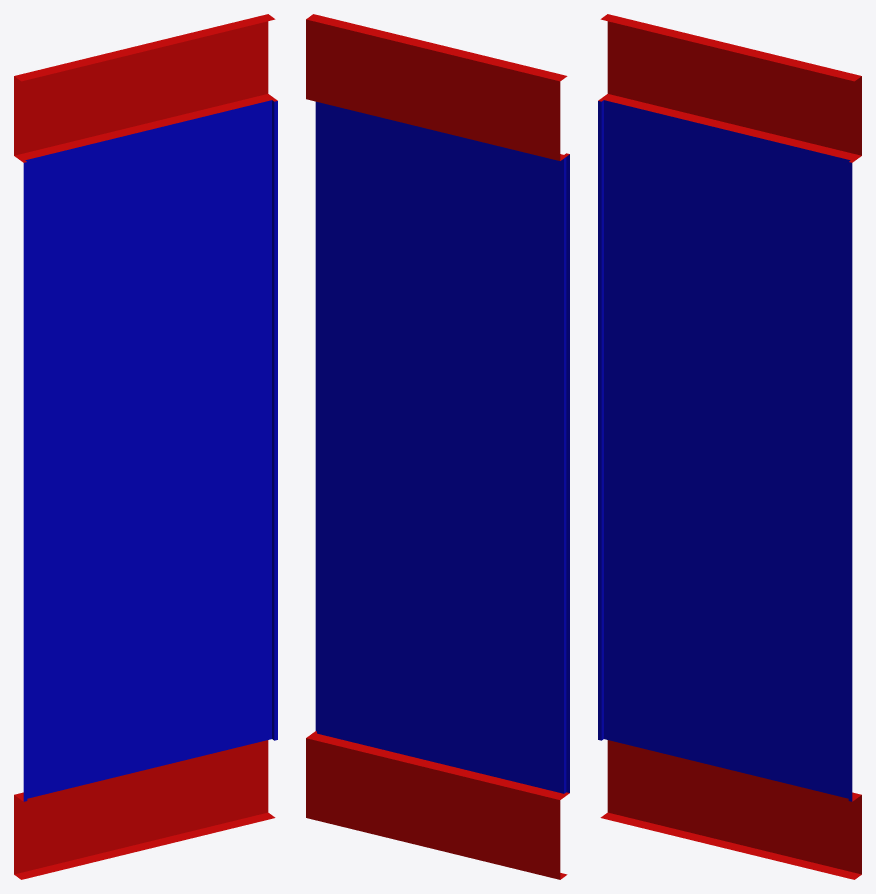
Rendered from block7.fbx.
3 views of the same model, side by side, from view 1: azimuth 30°, elevation 25°; view 2: azimuth 150°, elevation 25°; view 3: azimuth 330°, elevation 25° (orthographic).
Parts seen in each view (by area): view 1: muro_block7; view 2: muro_block7; view 3: muro_block7.
Boxes of the visible parts, x1=… form: muro_block7: x1=14, y1=14, x2=277, y2=879; muro_block7: x1=306, y1=14, x2=569, y2=879; muro_block7: x1=598, y1=14, x2=861, y2=879.
Bounding box in the file's own units: 100 × 300 × 6.58.
